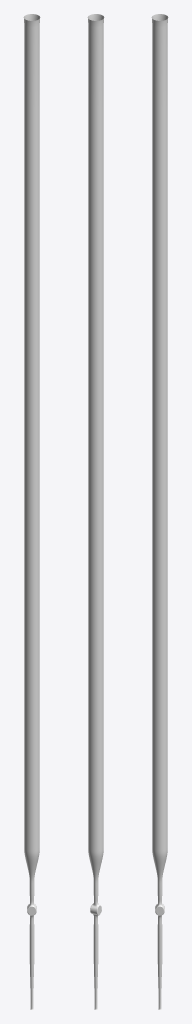
The model's file is burette fluid.fbx.
3 renders of one model, left to right at view 1: azimuth 90°, elevation 25°; view 2: azimuth 150°, elevation 25°; view 3: azimuth 270°, elevation 25°, orthographic.
Visible parts, largest first — view 1: burette fluid; view 2: burette fluid; view 3: burette fluid.
Boxes of the visible parts, box(x1,y1,x2,y2) form: burette fluid: box(23, 14, 40, 1009); burette fluid: box(87, 14, 104, 1009); burette fluid: box(151, 14, 168, 1009).
Bounding box in the file's own units: 1.09 × 72.29 × 1.09.
